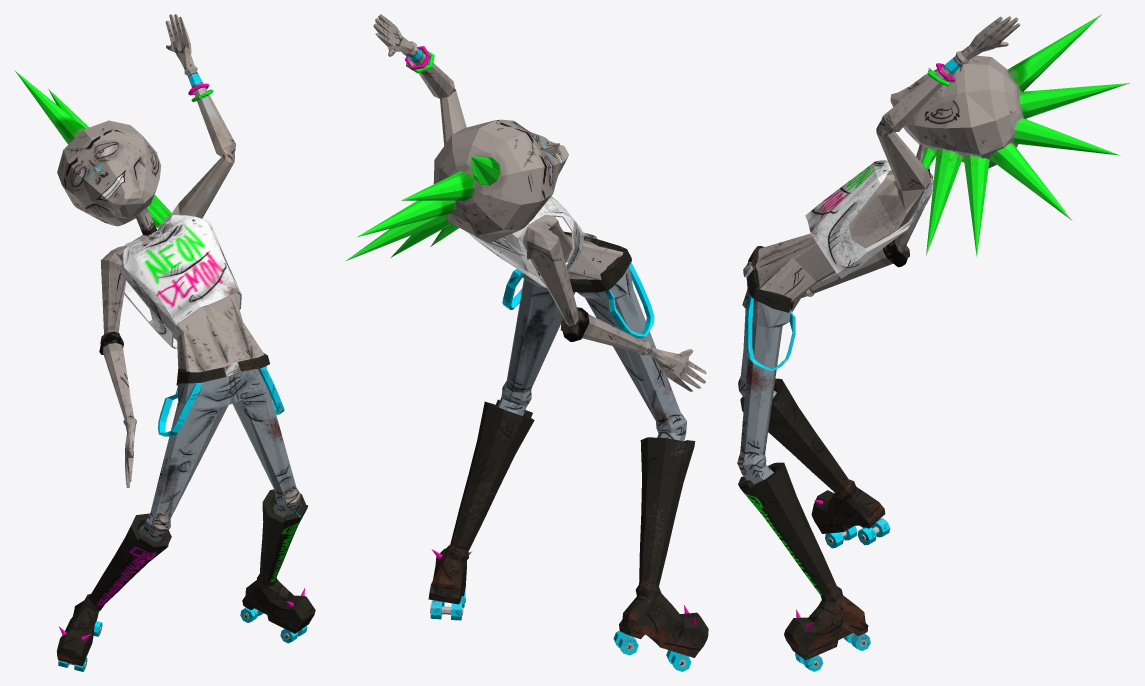
Rendered from punkAnimation_000093.obj.
The picture shows the model from 3 angles, left to right: view 1: azimuth 30°, elevation 25°; view 2: azimuth 150°, elevation 25°; view 3: azimuth 270°, elevation 25°; orthographic projection. The views are drawn at different scales.
Visible parts, largest first — view 1: Cube.004_Cube.003; view 2: Cube.004_Cube.003; view 3: Cube.004_Cube.003.
Boxes of the visible parts, x1,y1,x2,y2 form: Cube.004_Cube.003: (14,14,315,671); Cube.004_Cube.003: (345,14,708,671); Cube.004_Cube.003: (737,14,1129,671).
Size of the model in its own units: 2.89 by 6.42 by 3.61.
